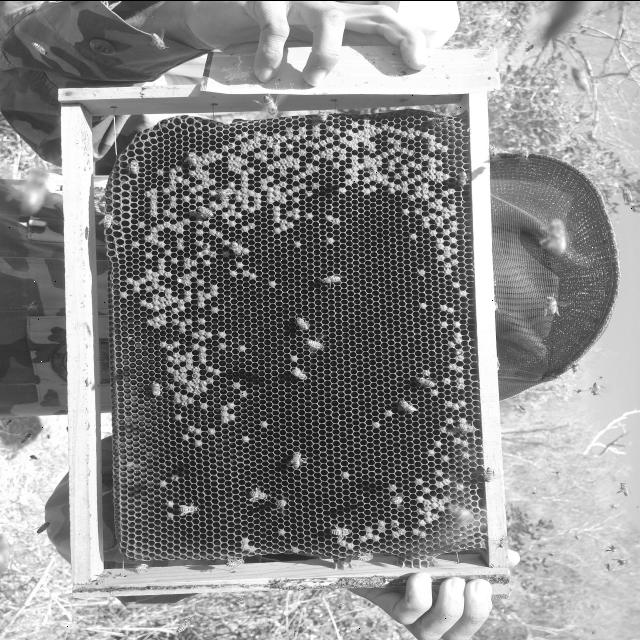cria: (118, 114, 472, 472), (242, 304, 465, 554)
marco: (80, 93, 485, 570)
